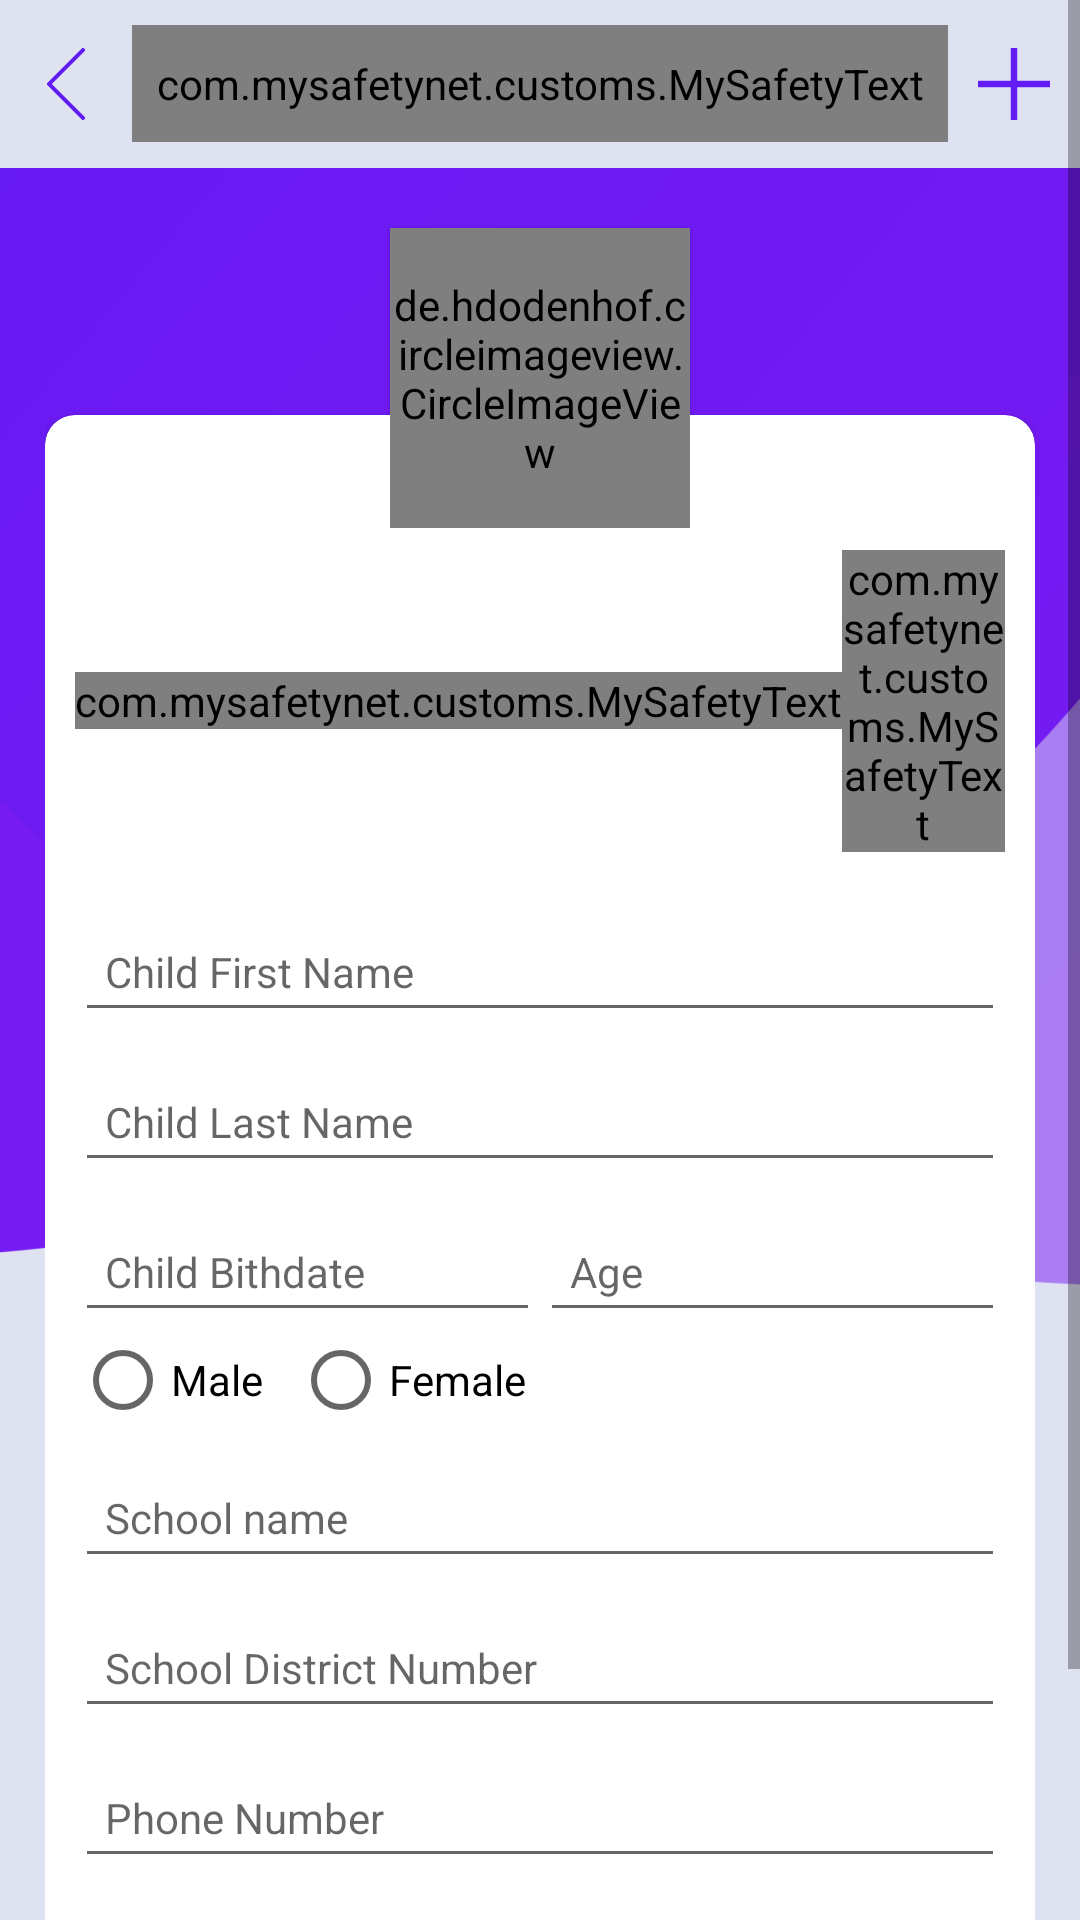

Locate icon controls on the screen. Image size 1080px×1920px, boxes as (x1, y1, x2, y2).
add: (978, 48, 1050, 120)
back: (47, 48, 85, 120)
